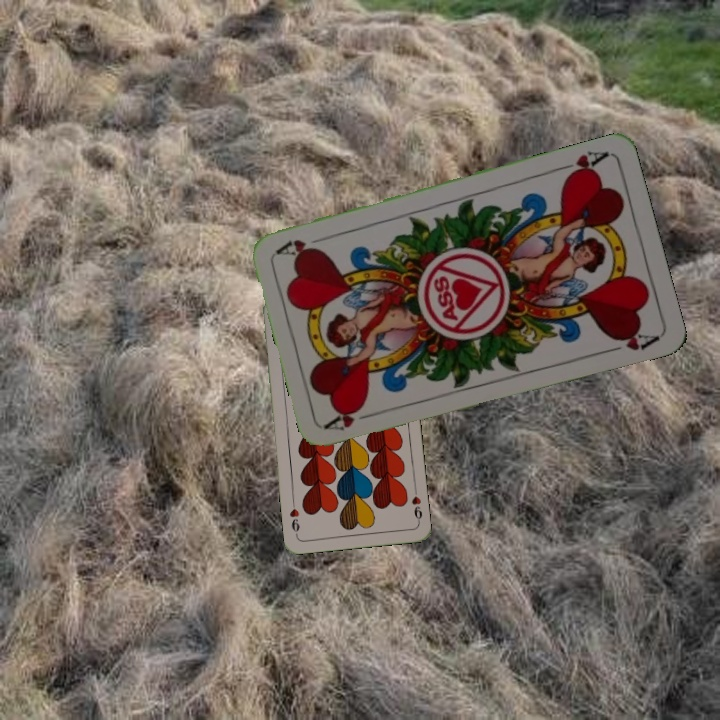H9: (407, 485, 425, 526)
HA: (553, 147, 611, 182), (322, 402, 381, 434)
